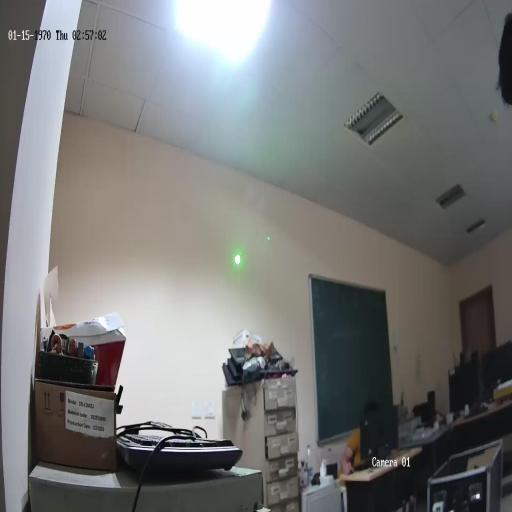laser: (233, 251, 242, 269)
